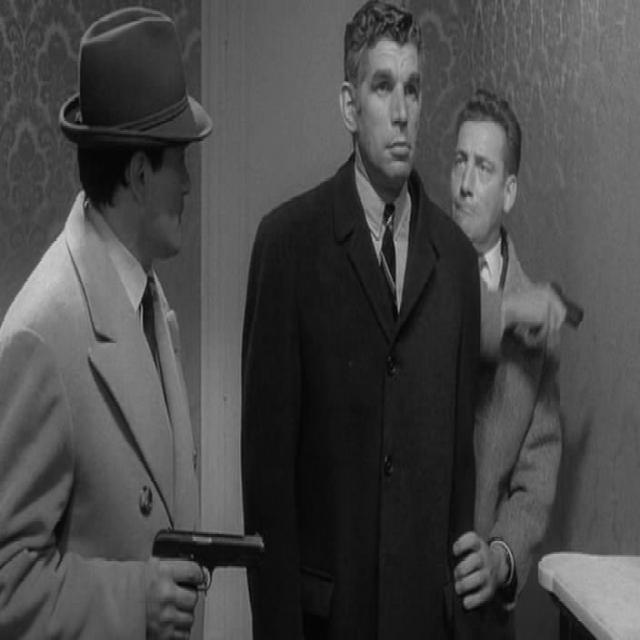gun-knife-thesis - v11 Yolov5 augmented: (140, 516, 266, 636)
